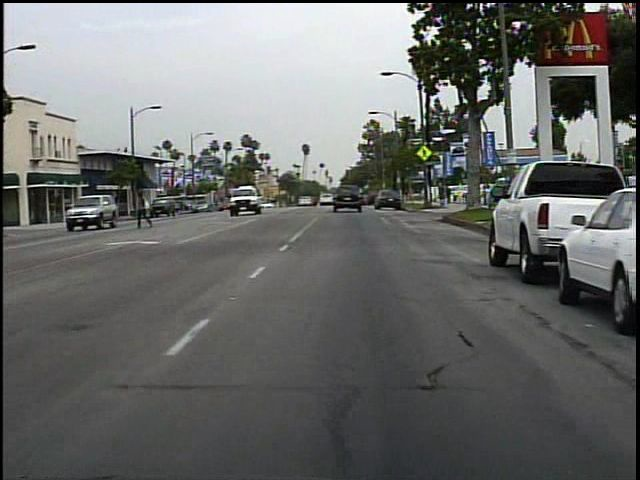person: (133, 187, 160, 231)
